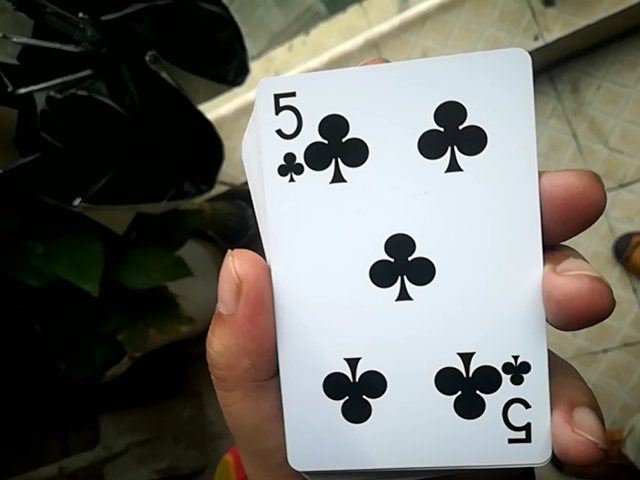mh 5: (232, 62, 559, 473)
